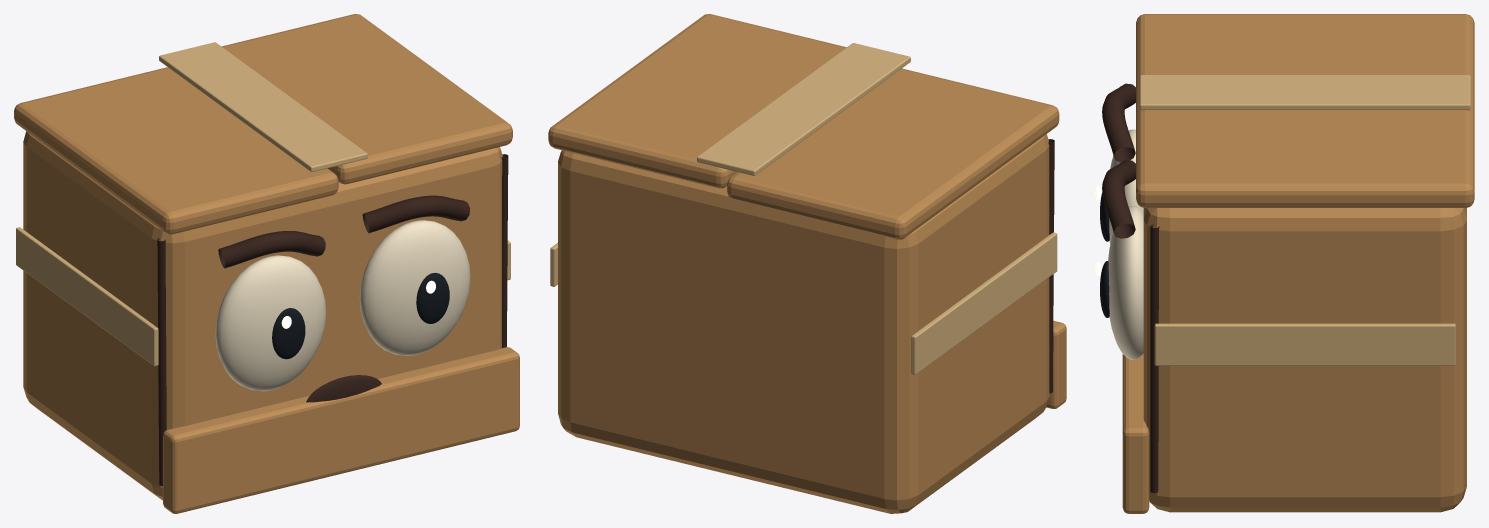
The picture shows the model from 3 angles, left to right: view 1: azimuth 30°, elevation 25°; view 2: azimuth 150°, elevation 25°; view 3: azimuth 270°, elevation 25°; orthographic projection. The views are drawn at different scales.
Visible parts, largest first — view 1: papelão, fold front, lid left, lid right, eye white, eye white.001, top tape, side tape, worried eyebrow.001, worried eyebrow, cardboard seam, pupil.001 (+3 smaller); view 2: papelão, lid left, lid right, top tape, side tape, fold front, cardboard seam; view 3: papelão, lid right, lid left, side tape.001, top tape, eye white.001, fold front, cardboard seam.001, worried eyebrow.001, worried eyebrow, eye white, pupil.001.
Boxes of the visible parts, x1,y1,x2,y2 form: papelão: [23, 131, 502, 500]; fold front: [163, 347, 519, 513]; lid left: [14, 67, 338, 234]; lid right: [221, 14, 512, 184]; eye white: [215, 255, 326, 391]; eye white.001: [359, 220, 470, 355]; top tape: [159, 42, 367, 171]; side tape: [16, 227, 158, 366]; worried eyebrow.001: [362, 195, 469, 233]; worried eyebrow: [218, 231, 325, 268]; cardboard seam: [157, 238, 166, 485]; pupil.001: [416, 272, 449, 323]; papelão: [558, 134, 1049, 513]; lid left: [727, 68, 1059, 239]; lid right: [548, 14, 846, 188]; top tape: [697, 43, 910, 175]; side tape: [911, 232, 1057, 374]; fold front: [1046, 320, 1066, 408]; cardboard seam: [1048, 139, 1054, 393]; papelão: [1143, 208, 1466, 512]; lid right: [1136, 100, 1474, 207]; lid left: [1136, 14, 1474, 106]; side tape.001: [1154, 323, 1455, 365]; top tape: [1139, 75, 1470, 110]; eye white.001: [1108, 206, 1143, 359]; fold front: [1122, 353, 1149, 513]; cardboard seam.001: [1150, 224, 1159, 492]; worried eyebrow.001: [1102, 160, 1135, 238]; worried eyebrow: [1102, 83, 1135, 162]; eye white: [1109, 129, 1143, 243]; pupil.001: [1100, 261, 1109, 317].
Size of the model in its own units: 0.594 by 0.4975 by 0.504.
